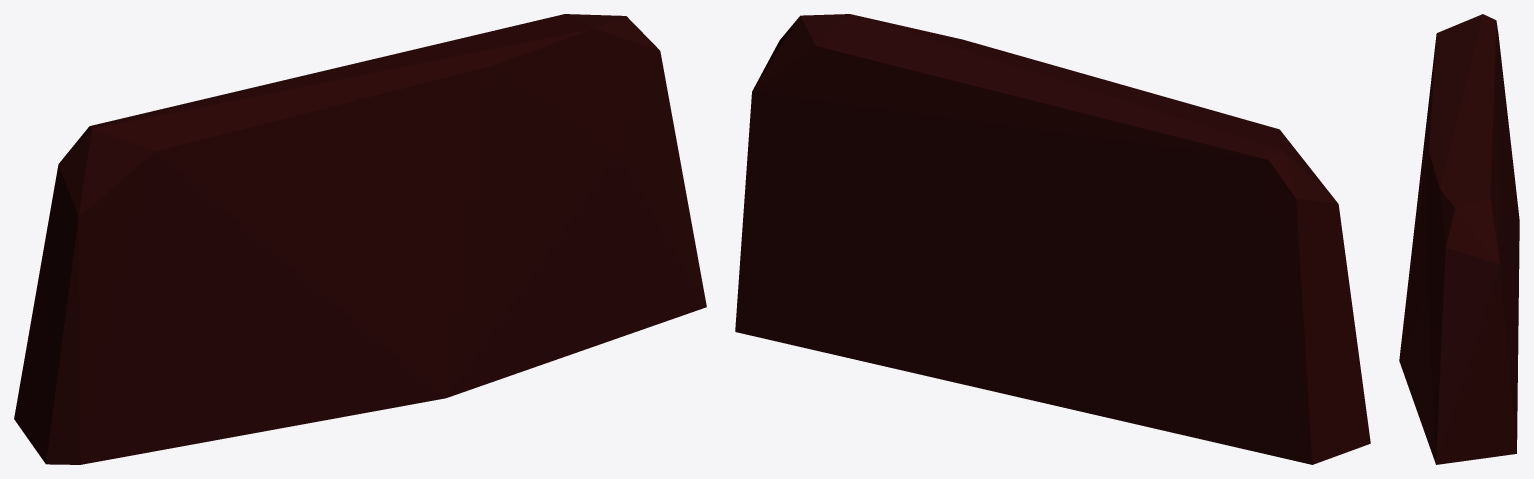
File: UCX_Castle_Wall_A.fbx
3 views of the same model, side by side, from view 1: azimuth 30°, elevation 25°; view 2: azimuth 150°, elevation 25°; view 3: azimuth 270°, elevation 25° (orthographic). The views are drawn at different scales.
Parts seen in each view (by area): view 1: UCX_Castle_Wall_A; view 2: UCX_Castle_Wall_A; view 3: UCX_Castle_Wall_A.
Boxes of the visible parts, bbox=[...] form: UCX_Castle_Wall_A: bbox=[14, 14, 706, 464]; UCX_Castle_Wall_A: bbox=[735, 14, 1370, 464]; UCX_Castle_Wall_A: bbox=[1399, 14, 1519, 464].
Size of the model in its own units: 1680 by 759 by 348.
